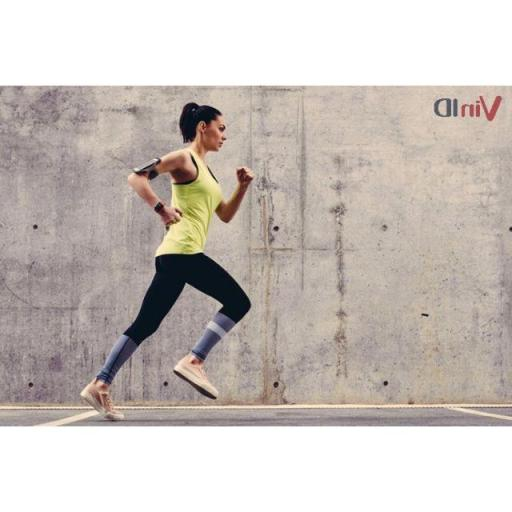Running: (78, 95, 267, 424)
